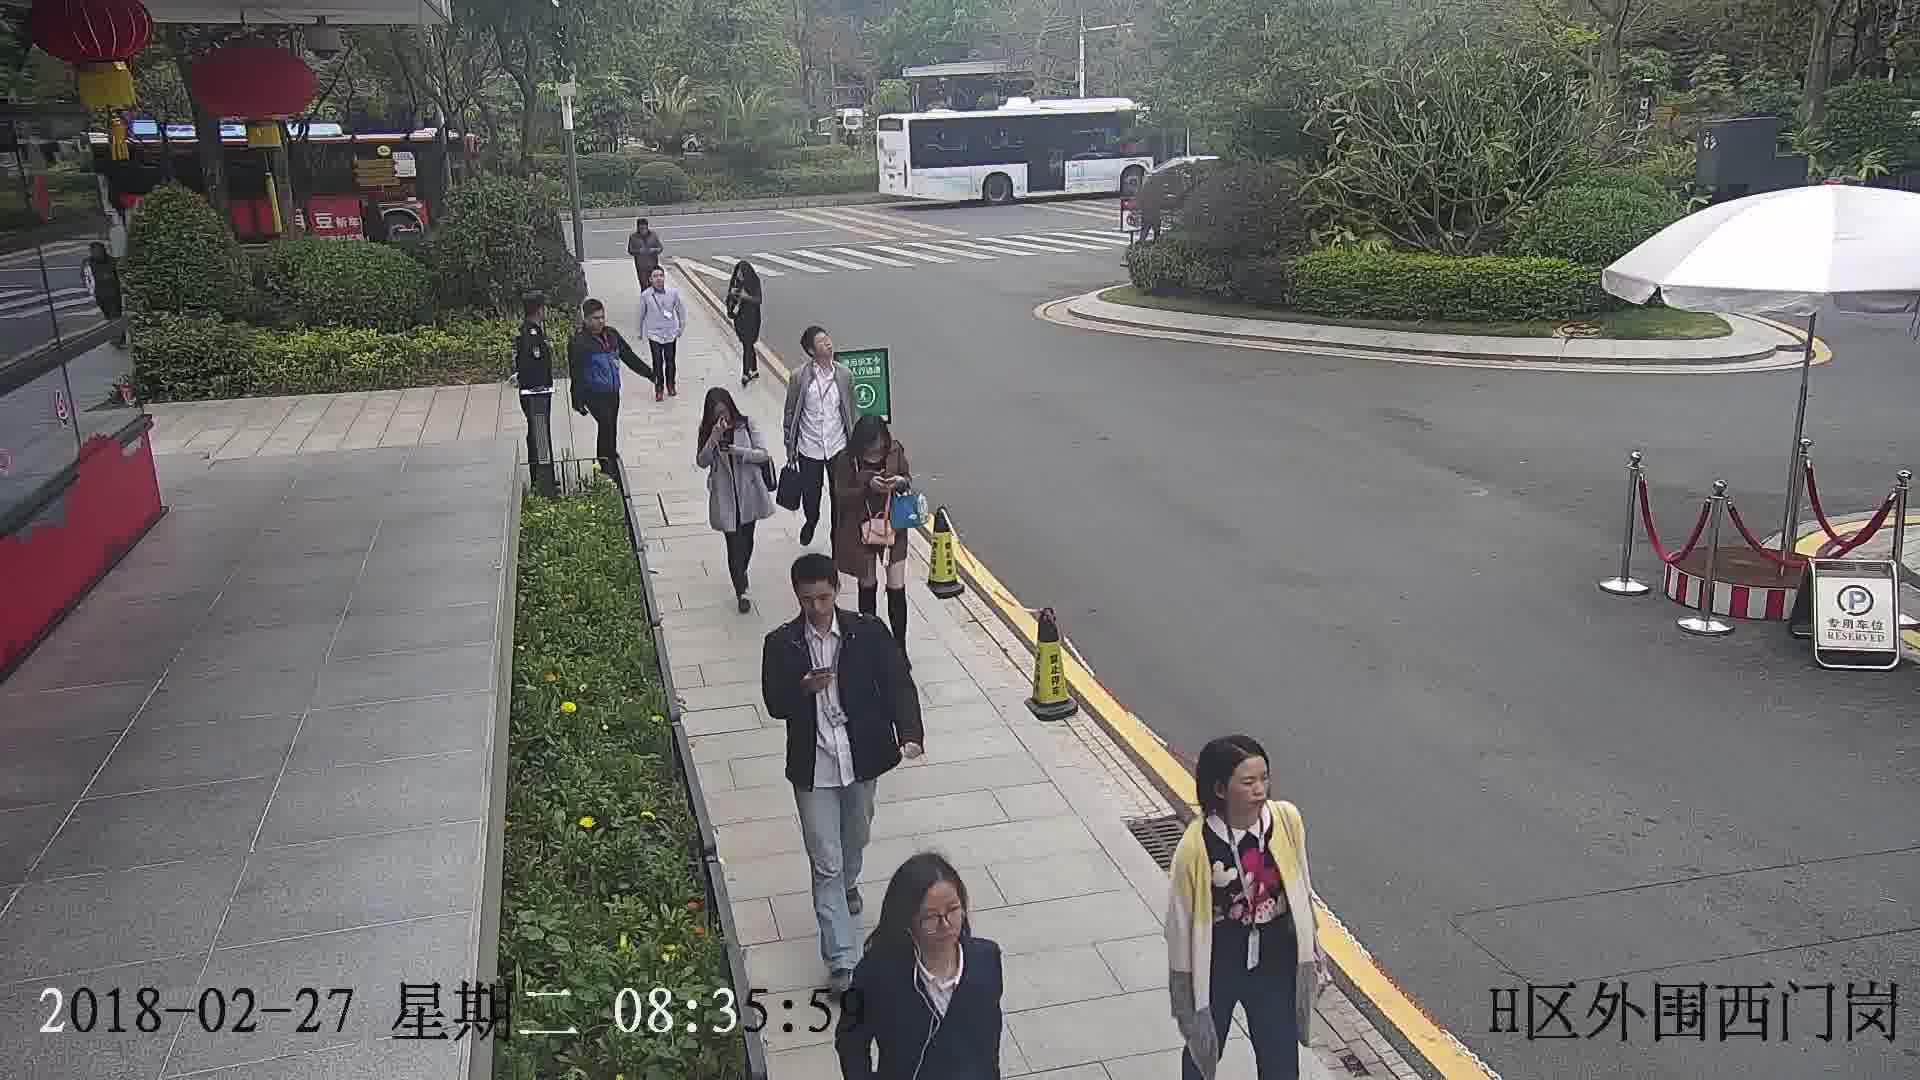face: (904, 881, 972, 949), (1214, 755, 1281, 822), (787, 578, 837, 628)
person: (855, 853, 1004, 999), (1172, 734, 1306, 867), (764, 546, 888, 661), (832, 410, 902, 491), (794, 324, 848, 390), (696, 384, 757, 439), (573, 297, 621, 344), (516, 292, 556, 344), (639, 261, 682, 302), (730, 259, 762, 294), (629, 213, 661, 245)
